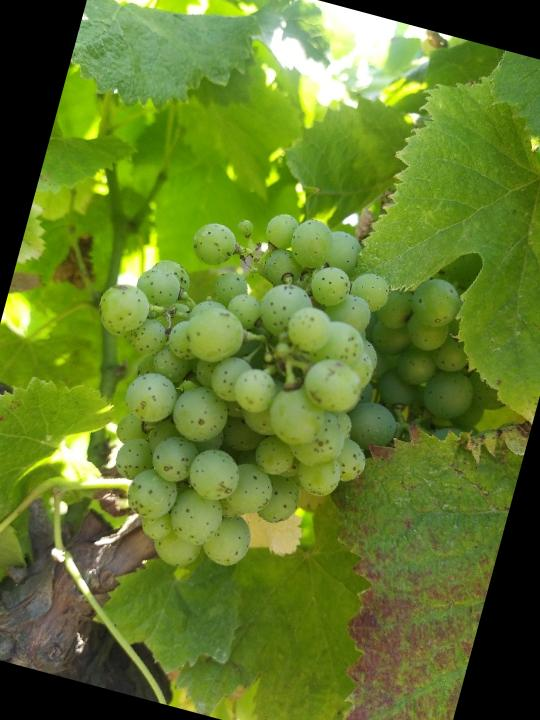grape: (39, 169, 429, 611)
